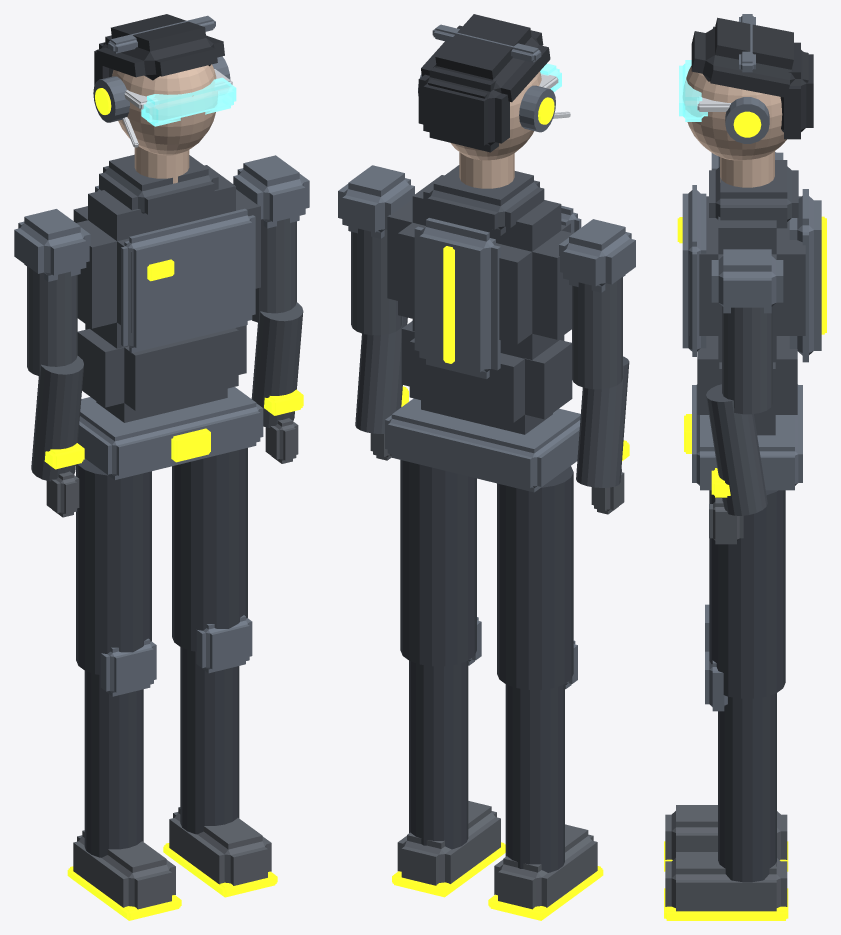
File: player_model.glb
3 renders of one model, left to right at view 1: azimuth 30°, elevation 25°; view 2: azimuth 150°, elevation 25°; view 3: azimuth 270°, elevation 25°, orthographic.
Parts seen in each view (by area): view 1: PL_ChestArmorFront, PL_Thigh_L, PL_Thigh_R, PL_WaistJacket, PL_Shin_L, PL_Shin_R, PL_Belt, PL_ChestJacket, PL_HeadMesh, PL_HairTop, PL_Boot_L, PL_Boot_R (+20 smaller); view 2: PL_Thigh_L, PL_Thigh_R, PL_ChestJacket, PL_Belt, PL_SpinePack, PL_Shin_R, PL_Shin_L, PL_WaistJacket, PL_HairTop, PL_HairBack, PL_UpperArm_L, PL_Collar (+15 smaller); view 3: PL_Thigh_R, PL_Shin_R, PL_ChestJacket, PL_HairTop, PL_Boot_R, PL_UpperArm_R, PL_Forearm_R, PL_Belt, PL_HeadMesh, PL_Pauldron_R, PL_Collar, PL_WaistJacket (+15 smaller).
Part boxes in pixels (bbox=[...]): PL_ChestArmorFront: bbox=[121, 208, 255, 353]; PL_Thigh_L: bbox=[76, 458, 151, 674]; PL_Thigh_R: bbox=[172, 448, 247, 651]; PL_WaistJacket: bbox=[77, 324, 246, 422]; PL_Shin_L: bbox=[84, 671, 143, 857]; PL_Shin_R: bbox=[180, 647, 239, 834]; PL_Belt: bbox=[77, 387, 263, 479]; PL_ChestJacket: bbox=[73, 165, 260, 348]; PL_HeadMesh: bbox=[112, 64, 217, 155]; PL_HairTop: bbox=[96, 14, 224, 80]; PL_Boot_L: bbox=[73, 830, 175, 909]; PL_Boot_R: bbox=[169, 807, 271, 885]; PL_Thigh_L: bbox=[497, 466, 573, 689]; PL_Thigh_R: bbox=[400, 460, 476, 666]; PL_ChestJacket: bbox=[387, 175, 572, 359]; PL_Belt: bbox=[385, 398, 580, 492]; PL_SpinePack: bbox=[414, 218, 500, 379]; PL_Shin_R: bbox=[409, 661, 468, 849]; PL_Shin_L: bbox=[505, 684, 564, 872]; PL_WaistJacket: bbox=[401, 321, 572, 434]; PL_HairTop: bbox=[421, 14, 550, 102]; PL_HairBack: bbox=[418, 66, 509, 152]; PL_UpperArm_L: bbox=[572, 277, 622, 389]; PL_Collar: bbox=[423, 165, 544, 235]; PL_Thigh_R: bbox=[709, 490, 785, 698]; PL_Shin_R: bbox=[718, 693, 776, 882]; PL_ChestJacket: bbox=[689, 196, 805, 362]; PL_HairTop: bbox=[691, 17, 808, 97]; PL_Boot_R: bbox=[665, 852, 787, 911]; PL_UpperArm_R: bbox=[722, 306, 772, 414]; PL_Forearm_R: bbox=[706, 384, 767, 515]; PL_Belt: bbox=[692, 384, 802, 490]; PL_HeadMesh: bbox=[683, 66, 786, 160]; PL_Pauldron_R: bbox=[711, 249, 783, 313]; PL_Collar: bbox=[709, 160, 798, 228]; PL_WaistJacket: bbox=[697, 336, 797, 435].
Size of the model in its own units: 0.595 by 1.78 by 0.3075.
